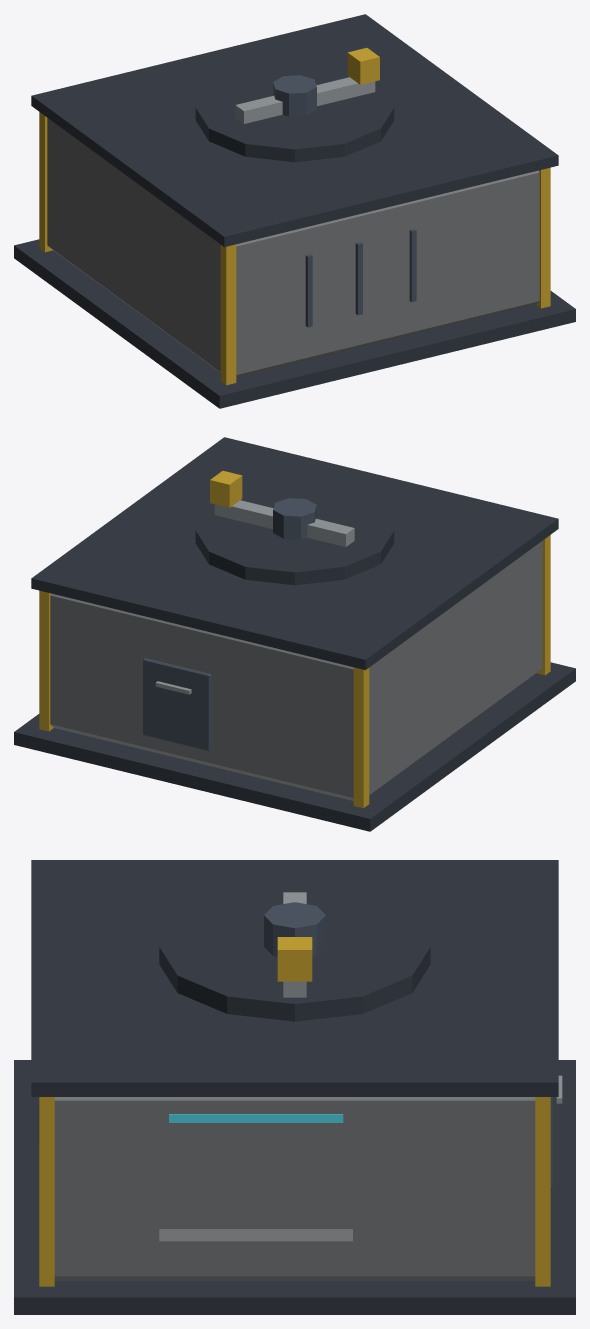
Rendered from assembler_1.obj.
3 views of the same model, one above another, from view 1: azimuth 30°, elevation 25°; view 2: azimuth 150°, elevation 25°; view 3: azimuth 270°, elevation 25° (orthographic). The views are drawn at different scales.
Parts seen in each view (by area): view 1: body, part; view 2: body, part; view 3: body, part.
Boxes of the visible parts, left/top/right/bottom form: body: left=14, top=14, right=575, bottom=408; part: left=195, top=48, right=394, bottom=162; body: left=14, top=437, right=575, bottom=831; part: left=195, top=471, right=394, bottom=585; body: left=14, top=860, right=575, bottom=1314; part: left=159, top=889, right=430, bottom=1021.
Size of the model in its own units: 2.9 by 1.7 by 2.9.
